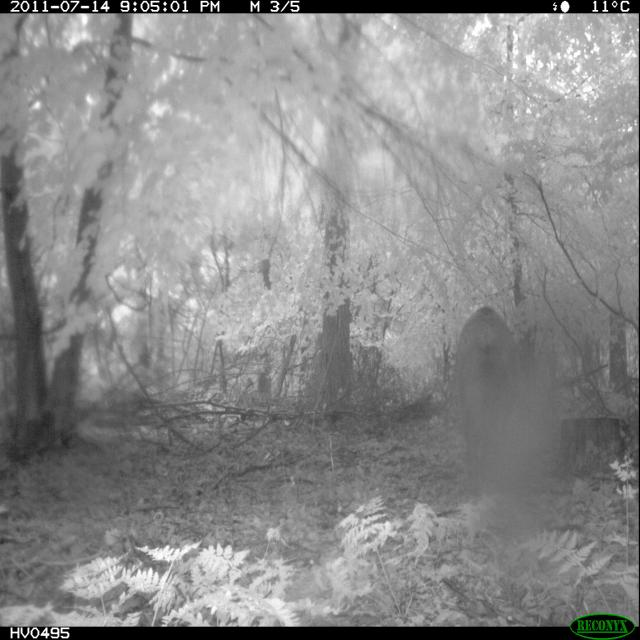boar: (448, 300, 544, 504)
